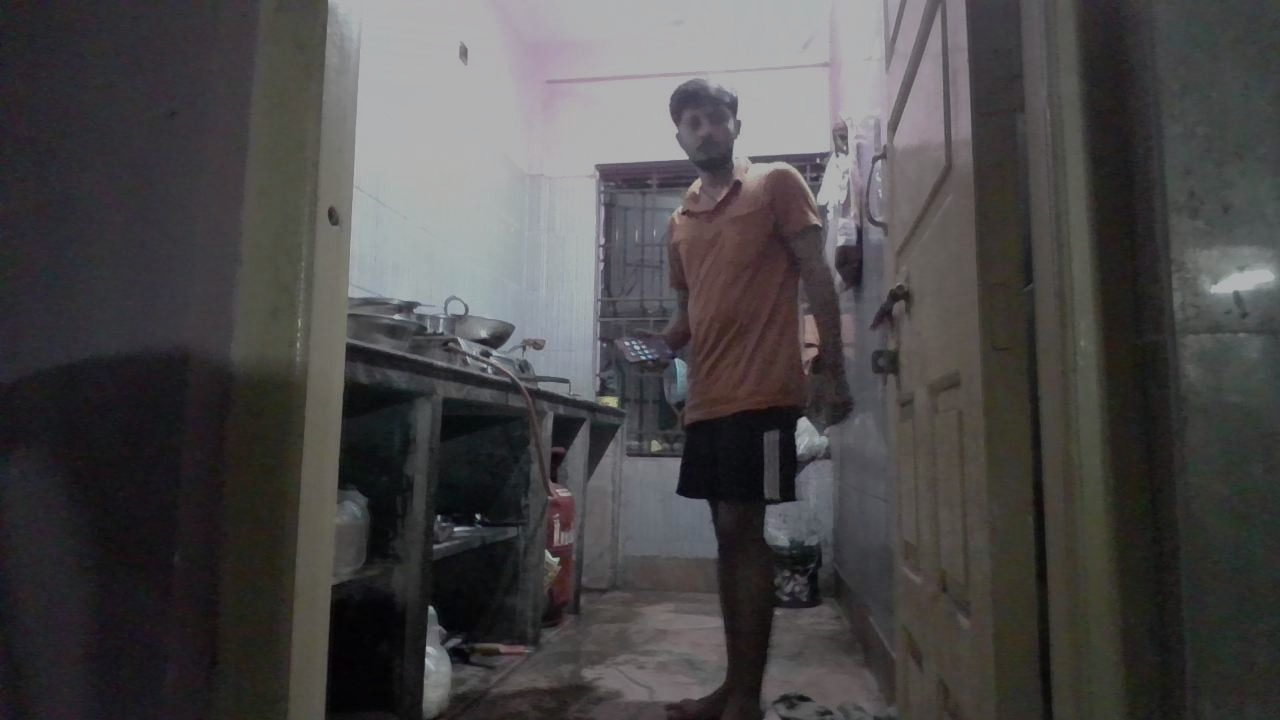red_box: (708, 382, 790, 415)
